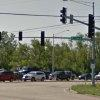Traffic light: (55, 4, 100, 68)
